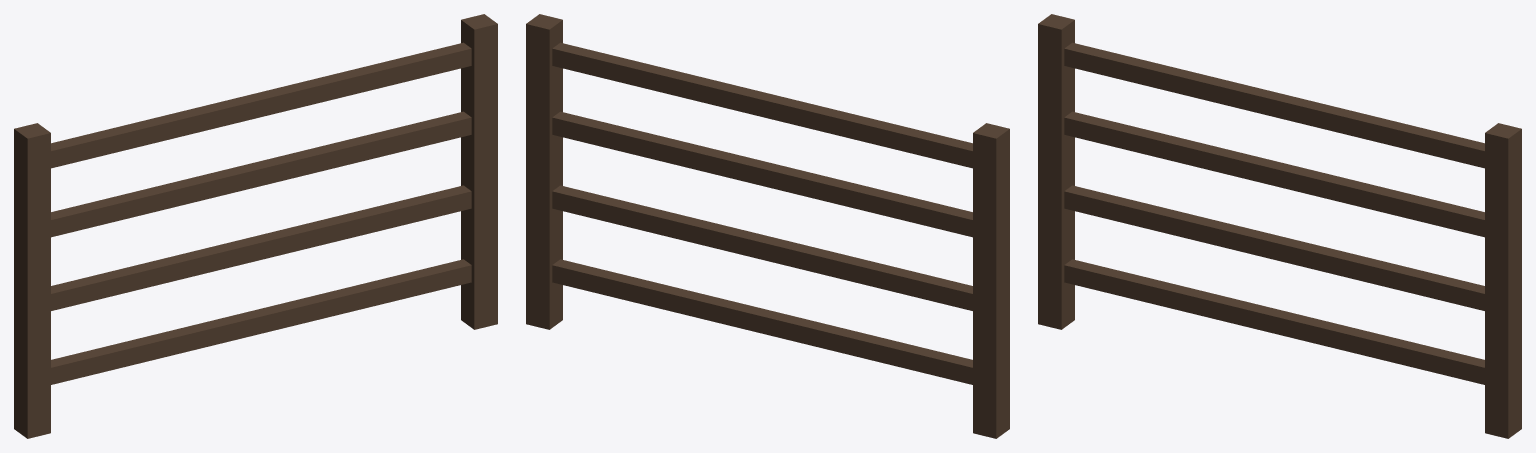
Rendered from barrier-gate.glb.
3 renders of one model, left to right at view 1: azimuth 30°, elevation 25°; view 2: azimuth 150°, elevation 25°; view 3: azimuth 330°, elevation 25°, orthographic.
Bounding box in the file's own units: 2 × 1.22 × 0.1.
